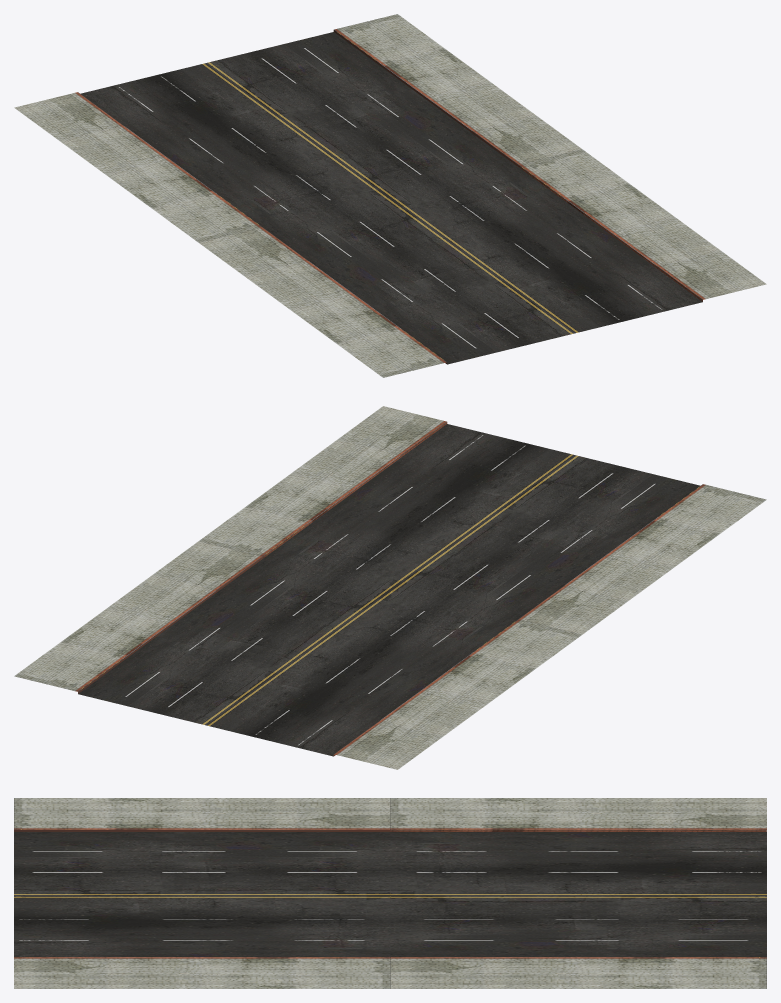
Rendered from road.glb.
The picture shows the model from 3 angles, top to bottom: view 1: azimuth 30°, elevation 25°; view 2: azimuth 150°, elevation 25°; view 3: azimuth 270°, elevation 25°; orthographic projection.
Visible parts, largest first — view 1: road_03__0; view 2: road_03__0; view 3: road_03__0.
Boxes of the visible parts, <box> form: road_03__0: <box>14,14,766,377</box>; road_03__0: <box>14,406,766,769</box>; road_03__0: <box>14,798,766,988</box>.
Bounding box in the file's own units: 334 × 1.87 × 556.
1 material, 1 textured.
